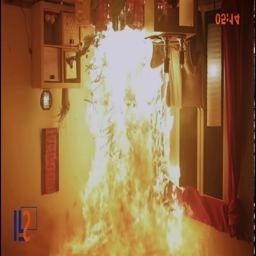fire: (44, 22, 196, 256)
